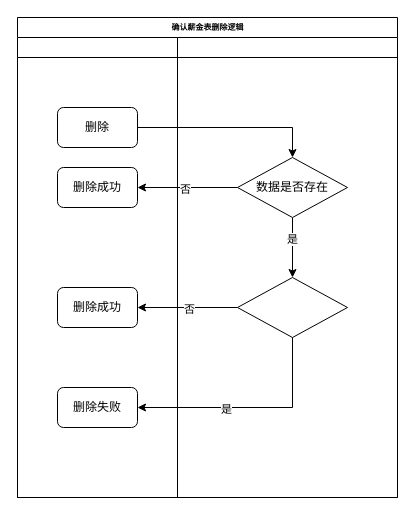
Some shapes in this 415 by 515 pixel diagram are drawn without their labels. The box of each missing label's shape, as (x1, y1, x2, y2) in pixels:
HRO个税: (16, 36, 178, 498)
个税: (176, 36, 398, 498)
数据是否锁定: (236, 276, 348, 338)
